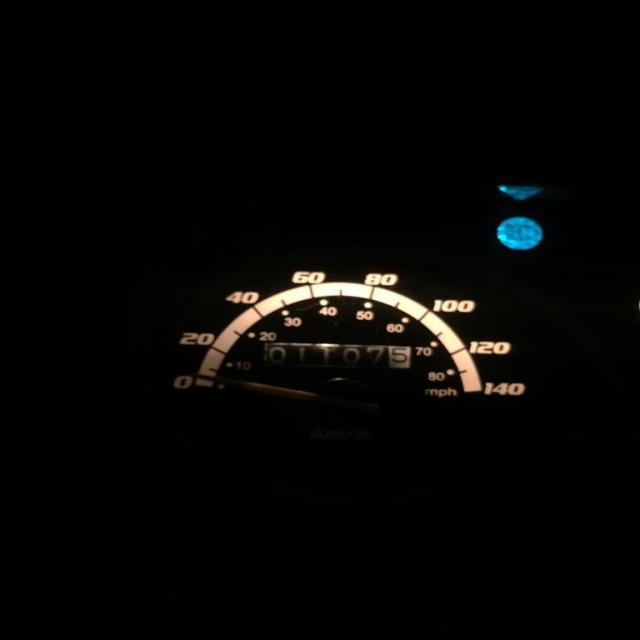odometer: (259, 340, 414, 370)
